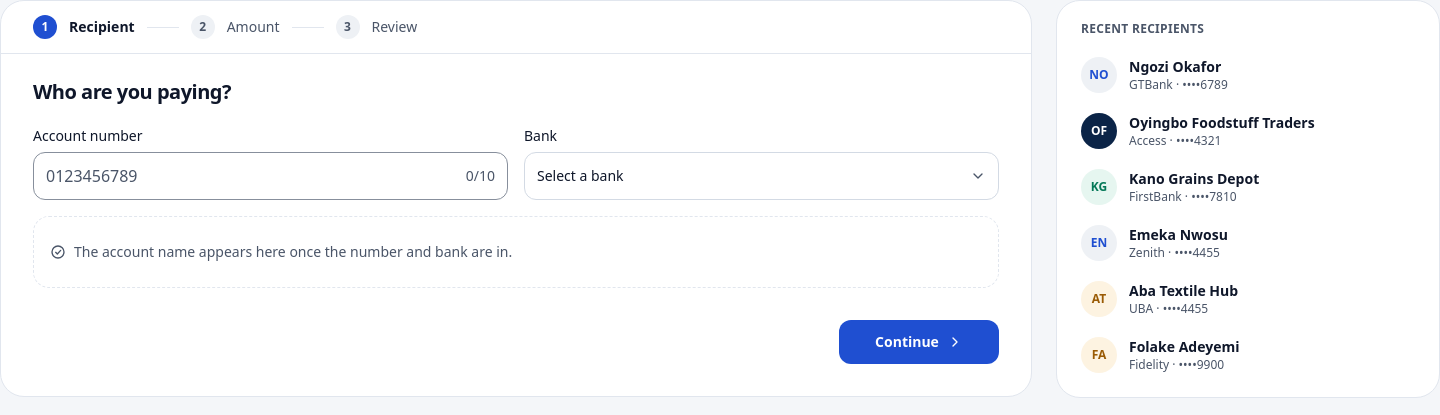
Test case: Send Money — recipient step › fills in and verifies a recent recipient with one tap
Click the button "EN Emeka Nwosu Zenith · ••••4455": (1248, 243) [1073,217,1423,269]
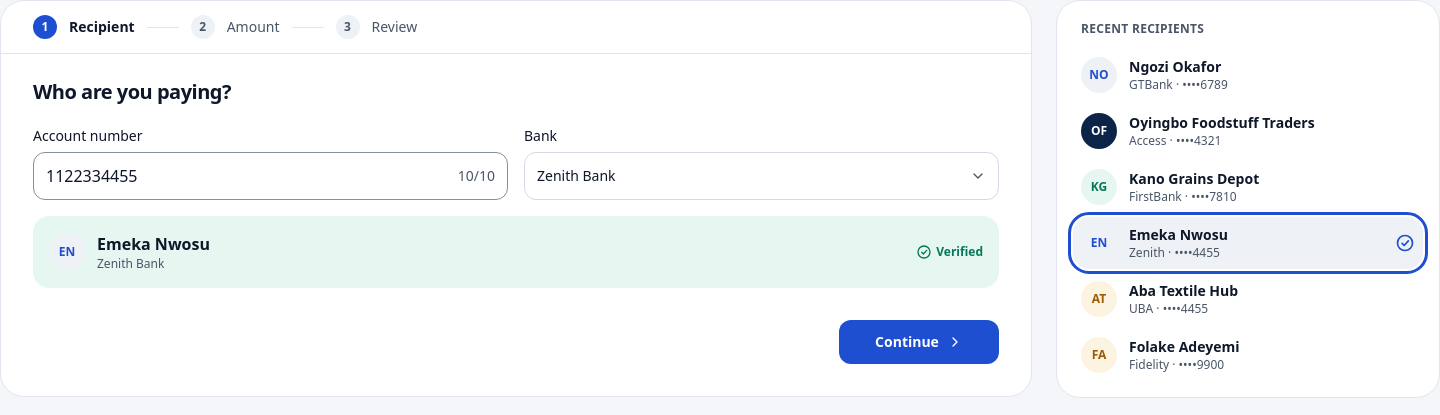
Check: the message "EN Emeka Nwosu Zenith Bank Verified" is shown, box [33,216,999,288]
Check: the field labelled "Account number" holds "1122334455", box [46,154,450,198]
Check: the text "Zenith Bank" next to "10/10" is shown, box [537,166,616,185]
